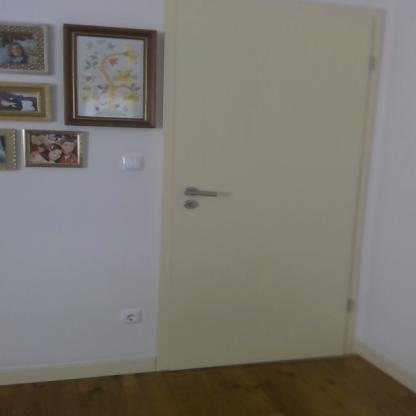door: (169, 0, 370, 358)
hinged: (344, 298, 353, 314), (370, 55, 378, 71)
lever: (181, 188, 221, 200)
